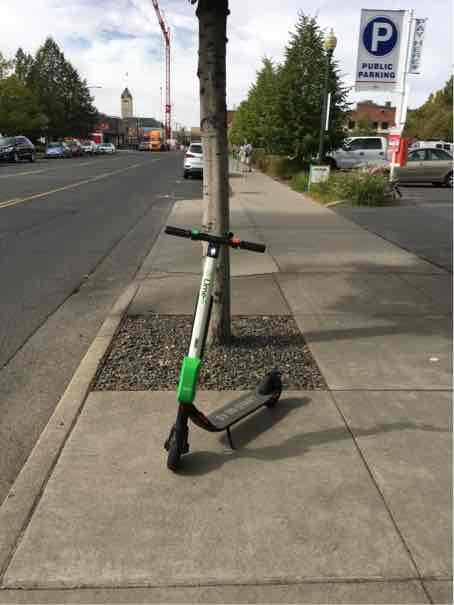scooter: (153, 215, 295, 487)
